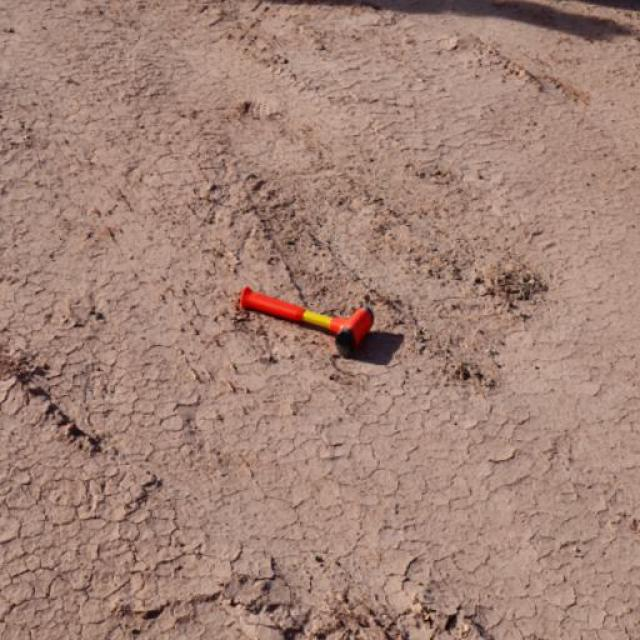mallet: (236, 284, 374, 355)
